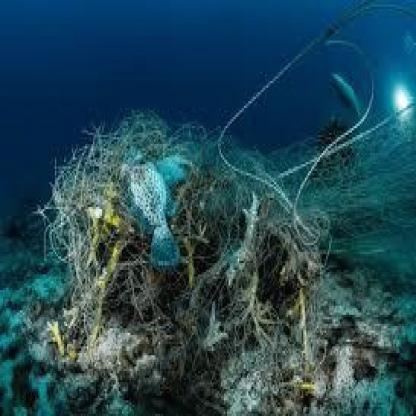net: (53, 121, 331, 392)
